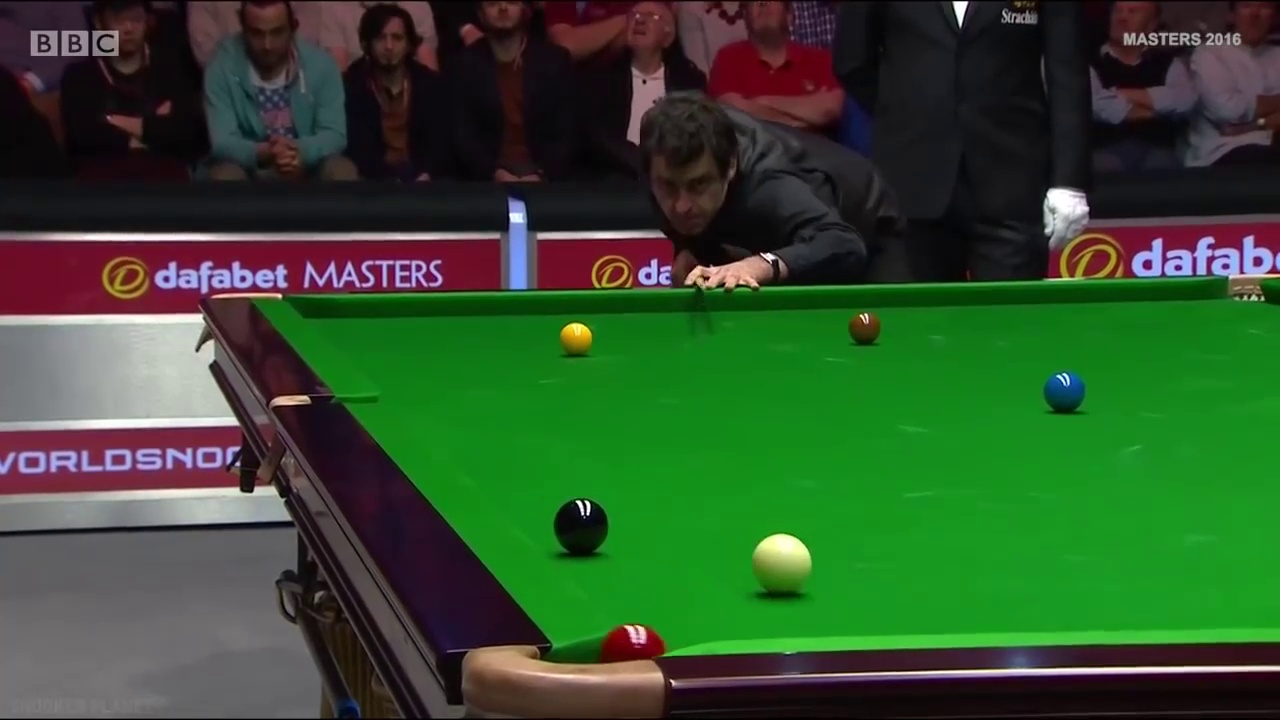ball: (750, 531, 814, 593), (551, 495, 609, 557), (1041, 373, 1085, 411), (846, 307, 887, 341), (557, 319, 595, 355)
